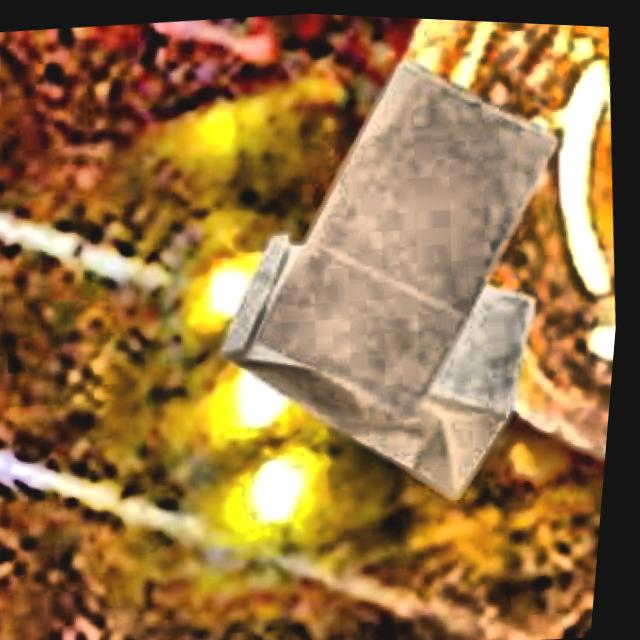Paper-bag: (241, 18, 596, 450), (191, 189, 588, 537)
